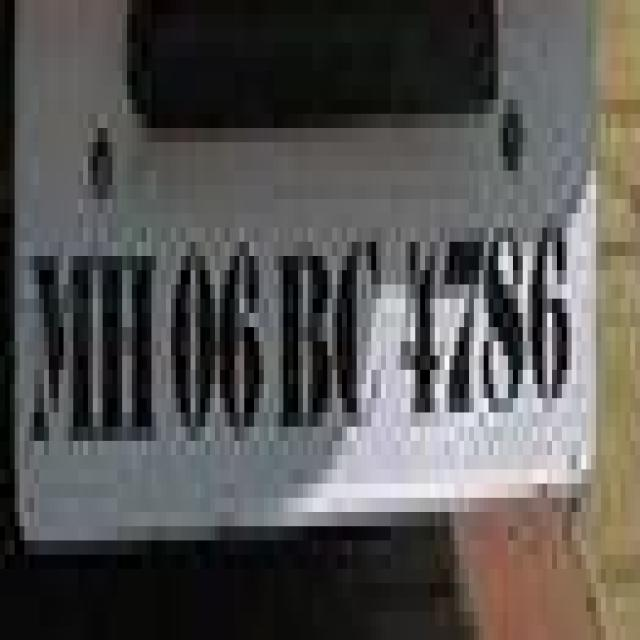license_plate: (5, 114, 606, 526)
